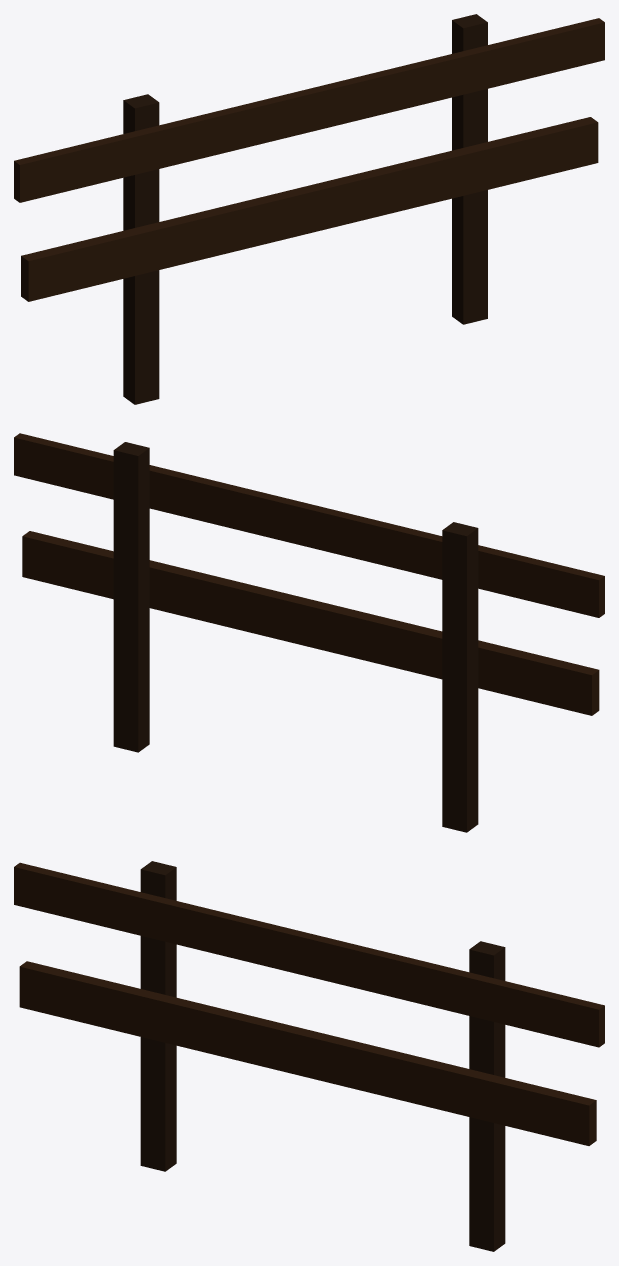
The model's file is Fence01.fbx.
3 views of the same model, one above another, from view 1: azimuth 30°, elevation 25°; view 2: azimuth 150°, elevation 25°; view 3: azimuth 330°, elevation 25° (orthographic).
Visible parts, largest first — view 1: Boards (×2), Posts; view 2: Boards (×2), Posts; view 3: Boards (×2), Posts.
Part boxes in pixels (box(x1,y1,x2,y2)): Boards (×2): box(14, 18, 604, 301); Posts: box(123, 14, 487, 404); Boards (×2): box(14, 433, 604, 715); Posts: box(113, 442, 478, 832); Boards (×2): box(14, 862, 604, 1145); Posts: box(140, 861, 505, 1251).
Size of the model in its own units: 31.65 by 15.32 by 1.76.
